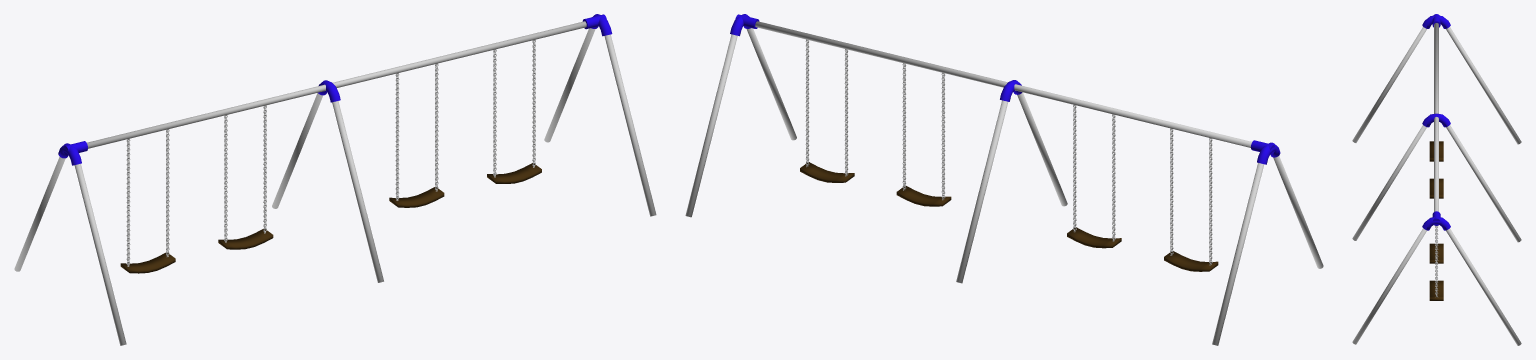
The model's file is swings.glb.
The picture shows the model from 3 angles, left to right: view 1: azimuth 30°, elevation 25°; view 2: azimuth 150°, elevation 25°; view 3: azimuth 270°, elevation 25°; orthographic projection. The views are drawn at different scales.
Visible parts, largest first — view 1: Cube.003; view 2: Cube.003; view 3: Cube.003.
Boxes of the visible parts, bbox=[...] form: Cube.003: bbox=[14, 14, 656, 345]; Cube.003: bbox=[685, 14, 1323, 345]; Cube.003: bbox=[1352, 14, 1521, 345].
Size of the model in its own units: 10.77 by 3.14 by 3.76.
